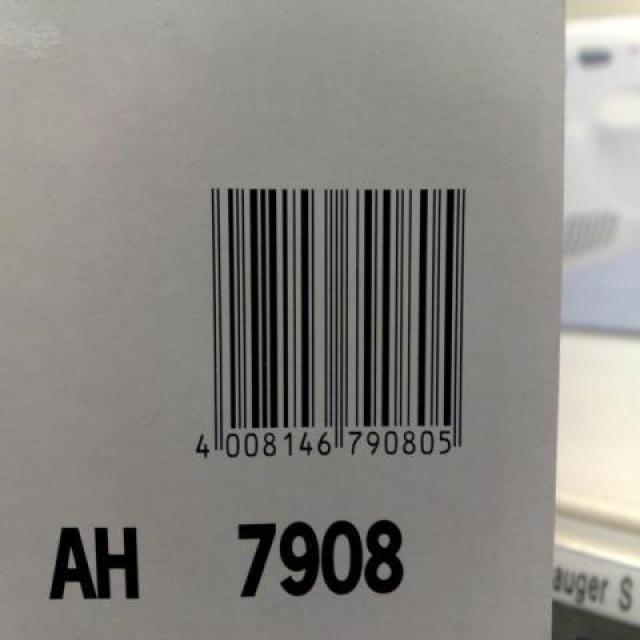Barcode: (176, 169, 492, 476)
